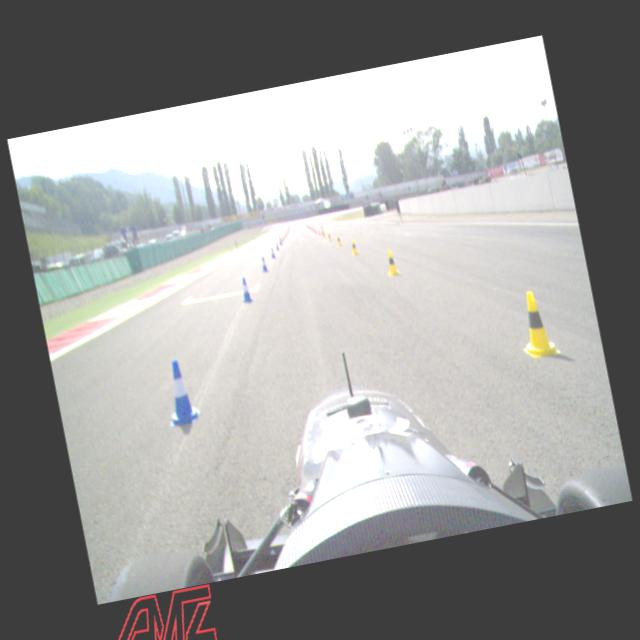blue_cone: (158, 356, 202, 426), (238, 276, 254, 304), (259, 255, 269, 272), (270, 246, 277, 259), (274, 241, 280, 251), (278, 238, 283, 246)
large_orange_cone: (320, 226, 326, 237), (277, 232, 282, 242), (292, 222, 296, 228), (296, 222, 300, 228), (288, 223, 291, 229), (300, 222, 303, 228), (304, 220, 306, 226)
orange_cone: (282, 233, 286, 240), (318, 229, 322, 236), (280, 236, 284, 242), (314, 228, 318, 234), (312, 228, 316, 232), (284, 232, 286, 237), (286, 232, 288, 236), (286, 230, 288, 233)
yellow_cone: (383, 248, 401, 277), (348, 238, 358, 256), (335, 234, 343, 248), (327, 232, 332, 242), (321, 230, 325, 238)
